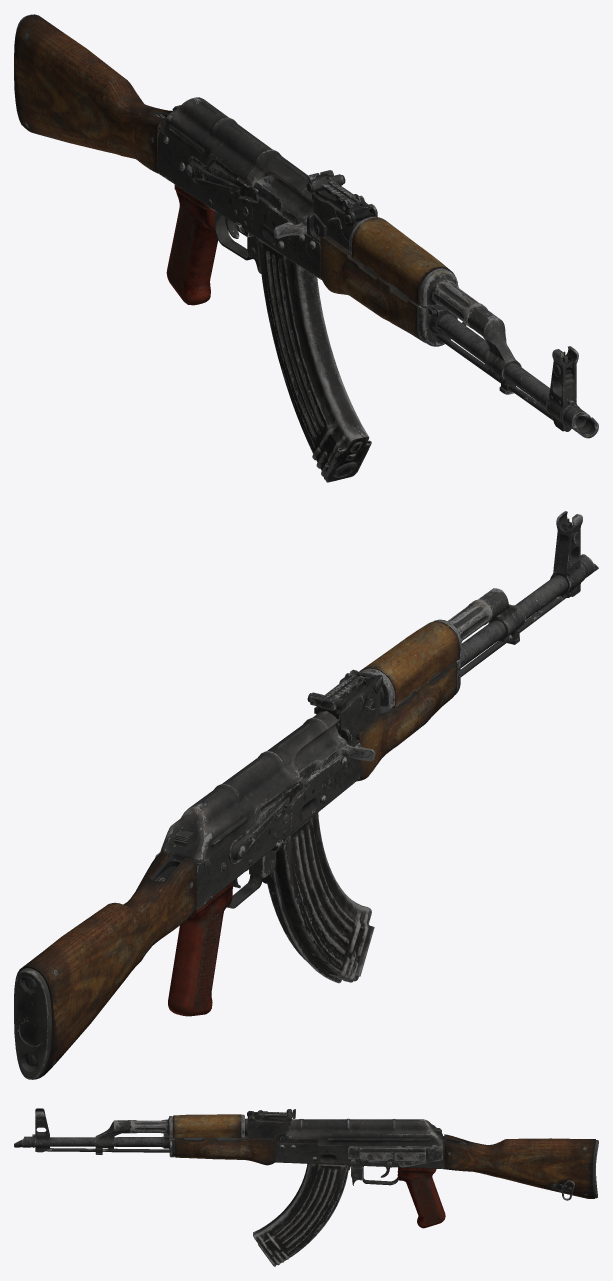
The model's file is akmn.glb.
3 views of the same model, one above another, from view 1: azimuth 30°, elevation 25°; view 2: azimuth 150°, elevation 25°; view 3: azimuth 270°, elevation 25° (orthographic). The views are drawn at different scales.
Parts seen in each view (by area): view 1: wStock.001_low, akmMag.001_low.003, akmDc_low, receiver.027_low.001, bGrip_low, wHg.001_low.002, wHg.001_low, barrel.001_low, barrel.002_low, barrel.005_low, barrel.007_low, receiver.024_low.001BAKE (+9 smaller); view 2: wStock.001_low, akmMag.001_low.003, akmDc_low, receiver.027_low.001, bGrip_low, wHg.001_low, wHg.001_low.002, barrel.001_low, barrel.002_low, barrel.007_low, receiver.017_low, receiver.024_low.001BAKE (+4 smaller); view 3: wStock.001_low, akmMag.001_low.003, akmDc_low, wHg.001_low.002, receiver.027_low.001, bGrip_low, wHg.001_low, lastch_low, barrel.001_low, receiver.024_low.001BAKE, barrel.005_low, barrelGasTube.001_low (+4 smaller).
Part boxes in pixels (x1,y1,x2,y2): wStock.001_low: (14,14,172,173); akmMag.001_low.003: (257,238,367,476); akmDc_low: (160,97,315,203); receiver.027_low.001: (158,129,321,279); bGrip_low: (166,184,218,305); wHg.001_low.002: (320,235,441,342); wHg.001_low: (351,217,454,304); barrel.001_low: (358,261,586,428); barrel.002_low: (255,175,470,316); barrel.005_low: (467,305,521,394); barrel.007_low: (546,346,578,431); receiver.024_low.001BAKE: (312,190,377,250); wStock.001_low: (14,852,196,1079); akmMag.001_low.003: (267,812,371,983); akmDc_low: (161,711,340,863); receiver.027_low.001: (196,743,360,910); bGrip_low: (168,881,233,1016); wHg.001_low: (359,621,459,707); wHg.001_low.002: (356,662,457,781); barrel.001_low: (380,575,567,713); barrel.002_low: (294,725,375,780); barrel.007_low: (550,511,583,596); receiver.017_low: (228,777,307,863); receiver.024_low.001BAKE: (314,669,380,734); wStock.001_low: (444,1134,598,1198); akmMag.001_low.003: (253,1163,350,1265); akmDc_low: (288,1118,442,1145); wHg.001_low.002: (172,1135,275,1165); receiver.027_low.001: (275,1143,444,1169); bGrip_low: (397,1167,445,1228); wHg.001_low: (172,1114,241,1138); lastch_low: (348,1145,442,1167); barrel.001_low: (34,1135,275,1147); receiver.024_low.001BAKE: (247,1110,290,1138); barrel.005_low: (95,1120,131,1154); barrelGasTube.001_low: (131,1114,247,1137).
Bounding box in the file's own units: 0.0747 × 0.2589 × 0.8893.
Materials: 6 (6 with a texture image).
